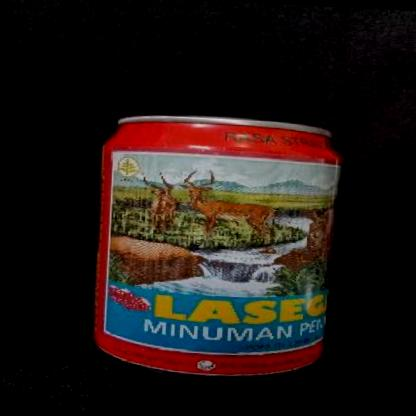alumunium_can: (90, 110, 344, 385)
